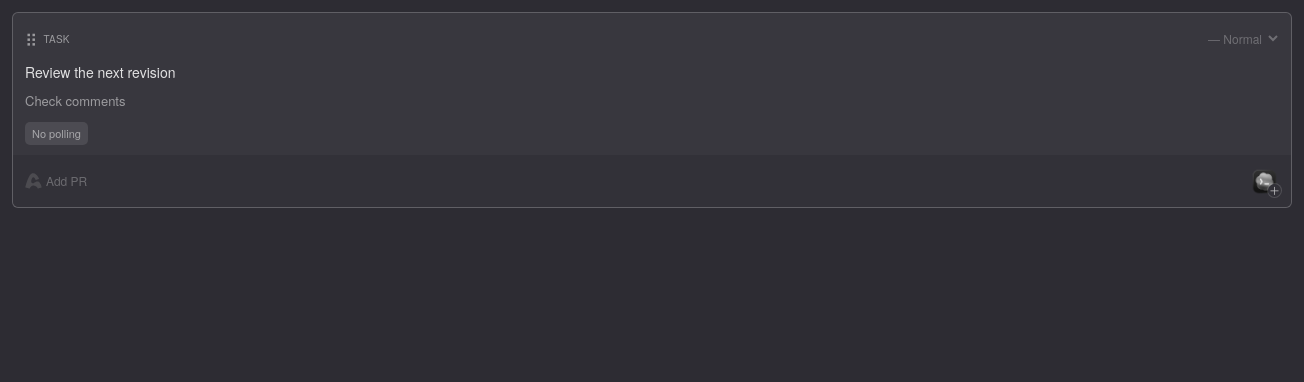
Test: renders an unlinked Codex icon as an accessible attachment action
The image size is (1304, 382).
Check: the text "＋" is shown, box [1268,184,1281,197]
What coordinates should you click on to do the following:
click the button named "Link Codex: no chat linked"
I would click on:
 (1264, 181)
Its box is [1249,166,1279,196].
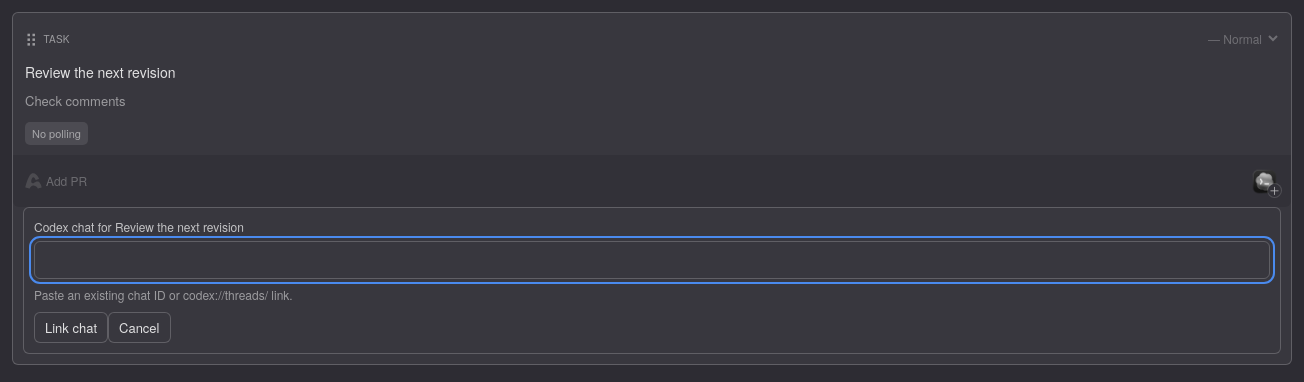
Check: the field labelled "Codex chat for Review the next revision" is shown, box [34,241,1270,279]
